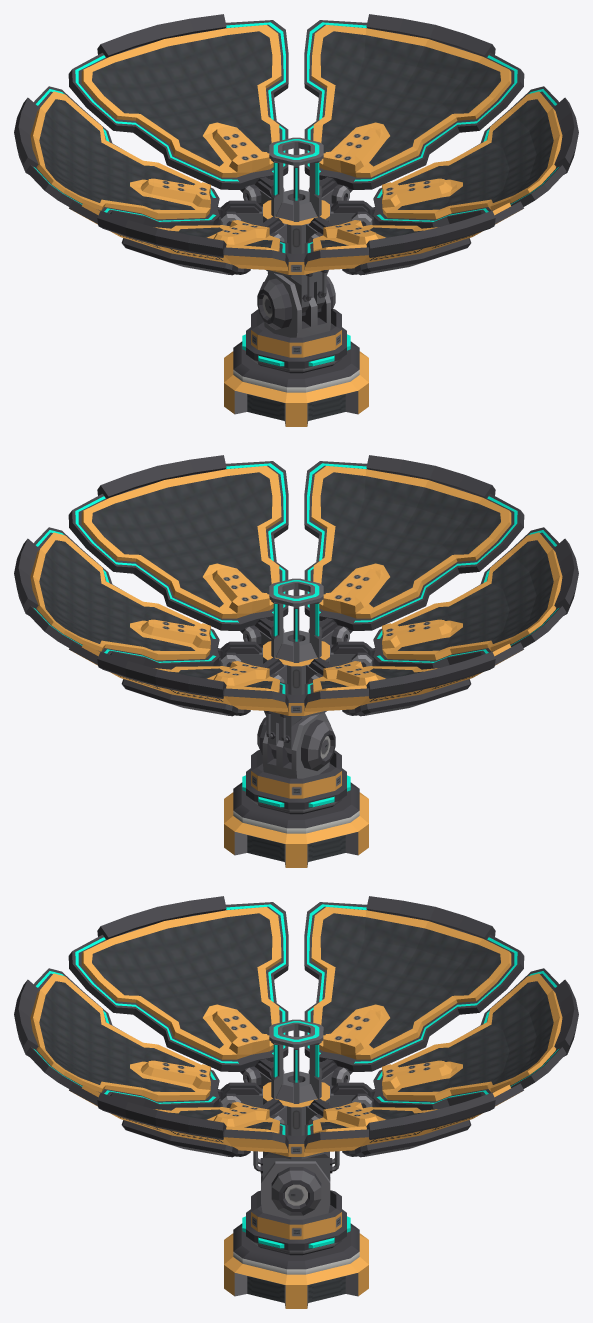
Rendered from worlds_SM_Prop_Satellite_04.gltf.
The picture shows the model from 3 angles, top to bottom: view 1: azimuth 30°, elevation 25°; view 2: azimuth 150°, elevation 25°; view 3: azimuth 270°, elevation 25°; orthographic projection.
Parts seen in each view (by area): view 1: SM_Prop_Satellite_04_Dish_01, SM_Prop_Satellite_04, SM_Prop_Satellite_04_Swivel_02; view 2: SM_Prop_Satellite_04_Dish_01, SM_Prop_Satellite_04, SM_Prop_Satellite_04_Swivel_02; view 3: SM_Prop_Satellite_04_Dish_01, SM_Prop_Satellite_04, SM_Prop_Satellite_04_Swivel_02.
Boxes of the visible parts, x1,y1,x2,y2 form: SM_Prop_Satellite_04_Dish_01: (14, 14, 578, 275); SM_Prop_Satellite_04: (224, 272, 368, 426); SM_Prop_Satellite_04_Swivel_02: (222, 137, 370, 329); SM_Prop_Satellite_04_Dish_01: (14, 455, 578, 716); SM_Prop_Satellite_04: (224, 713, 368, 867); SM_Prop_Satellite_04_Swivel_02: (222, 578, 370, 770); SM_Prop_Satellite_04_Dish_01: (14, 896, 578, 1157); SM_Prop_Satellite_04: (224, 1161, 368, 1308); SM_Prop_Satellite_04_Swivel_02: (222, 1019, 370, 1215).
Bounding box in the file's own units: 15.18 × 8.1 × 15.49.
1 material, 1 textured.
